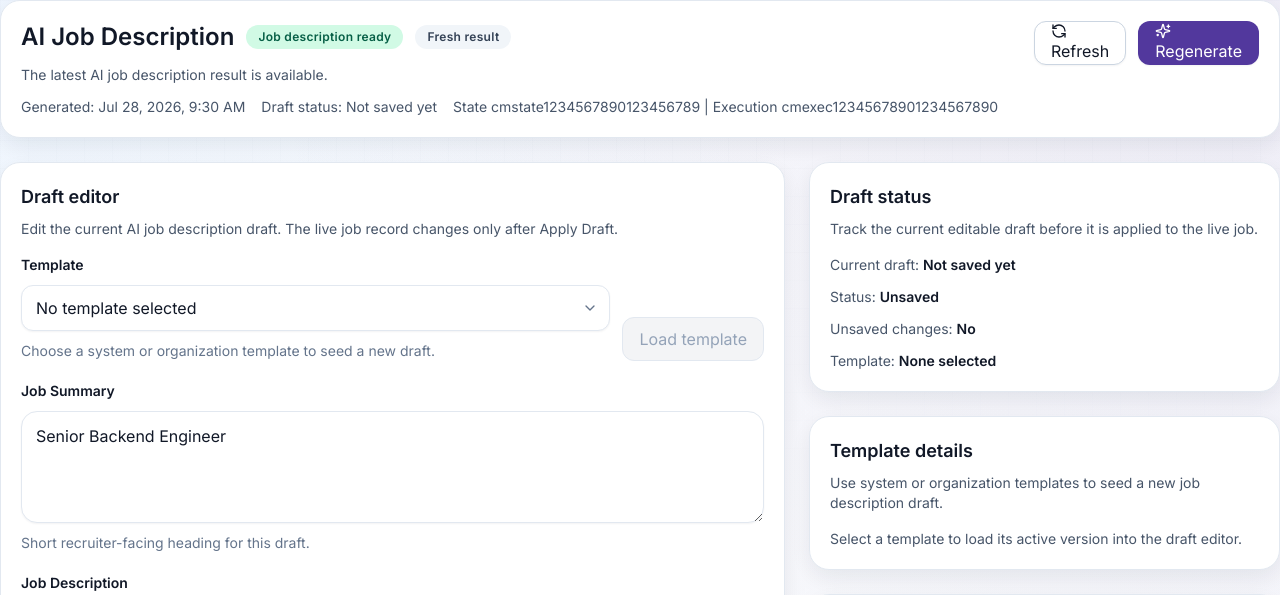
Test case: RecruiterAiJobDescriptionPanel › loads a selected template into the editor
Select "Backend Default | v2 | System" in the dropdown labelled "Template" at (316, 308), box left=21, top=285, right=610, bottom=331
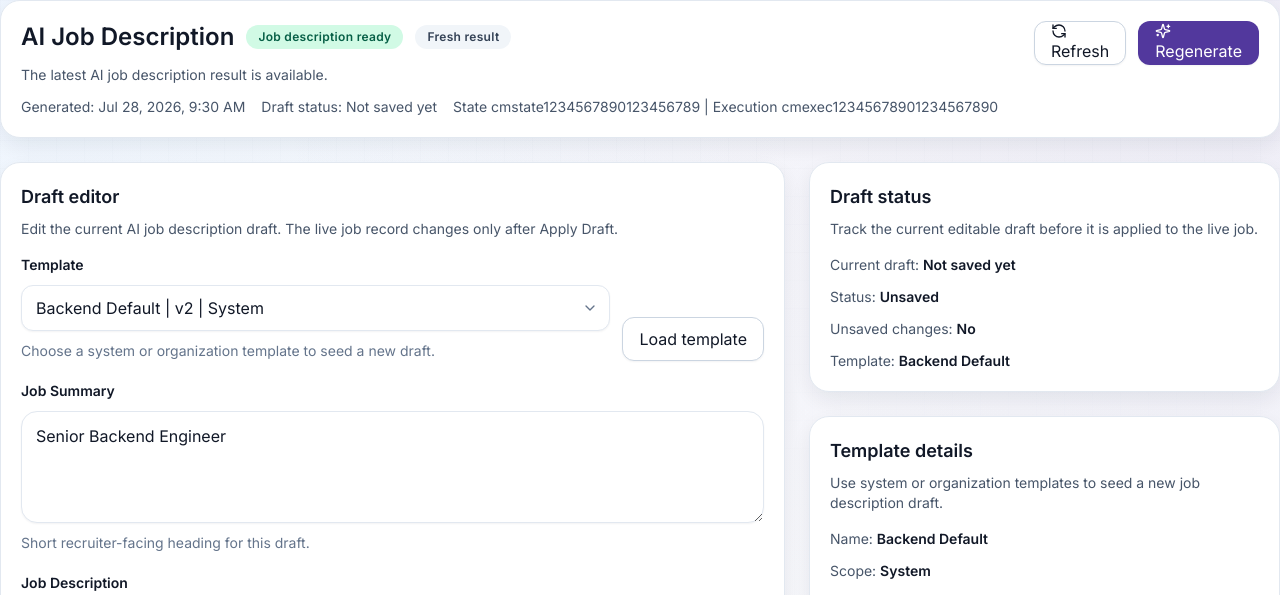
Click the button "Load template" at (693, 339), box left=622, top=317, right=764, bottom=361
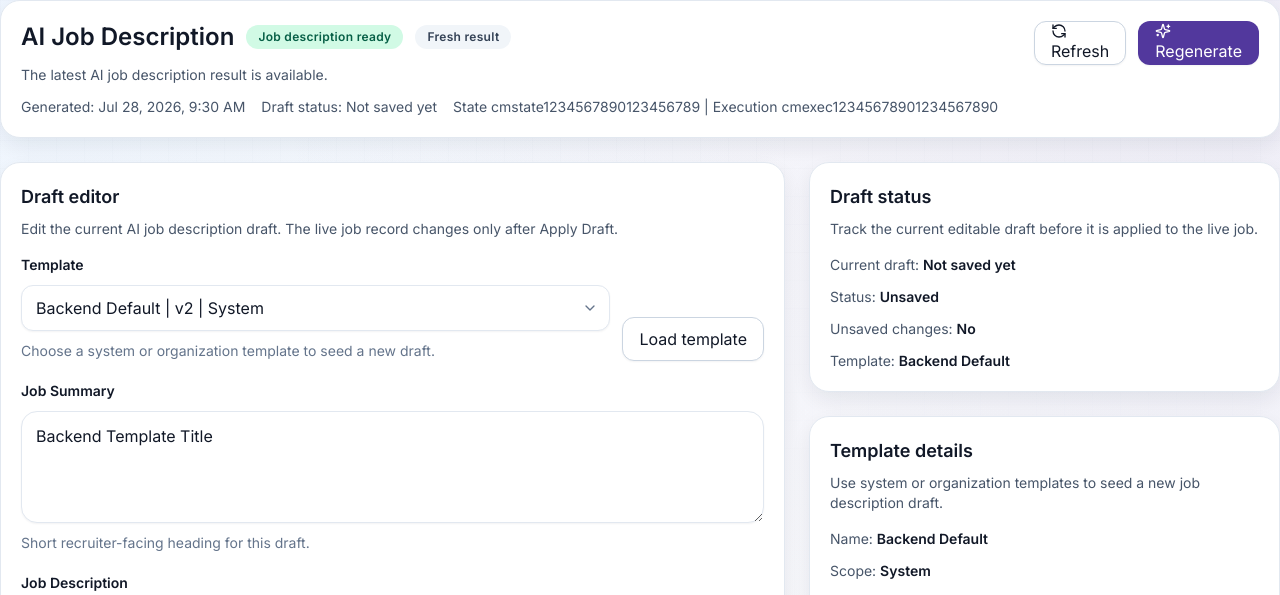
Result: the text box showing "Backend Template Title" is shown at left=21, top=411, right=764, bottom=523
